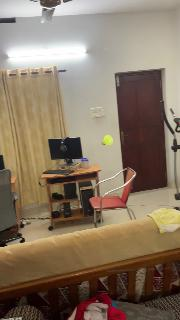shuttlecock: (102, 135, 112, 145)
